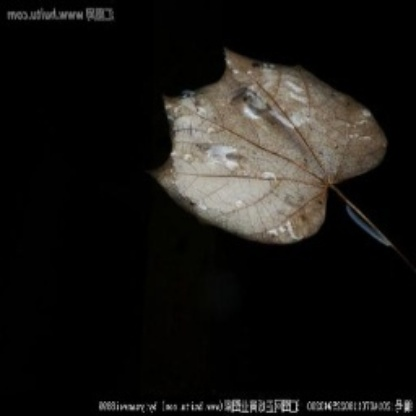leaf: (149, 44, 389, 249)
